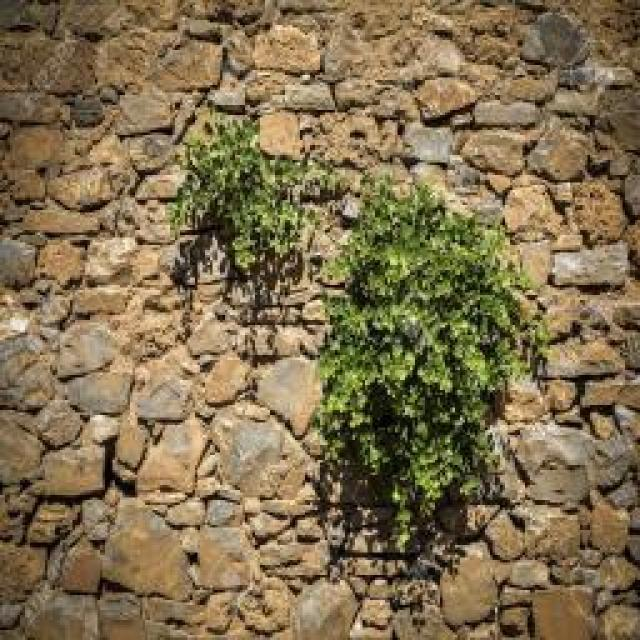crack: (1, 0, 638, 638), (421, 7, 638, 231), (237, 2, 513, 132), (4, 296, 146, 503), (206, 405, 312, 504)
vegetation: (198, 126, 554, 535), (168, 109, 339, 277), (2, 32, 90, 92), (234, 576, 294, 634), (7, 358, 62, 411), (320, 30, 373, 83), (203, 1, 280, 30), (217, 28, 259, 81), (65, 93, 107, 129)
